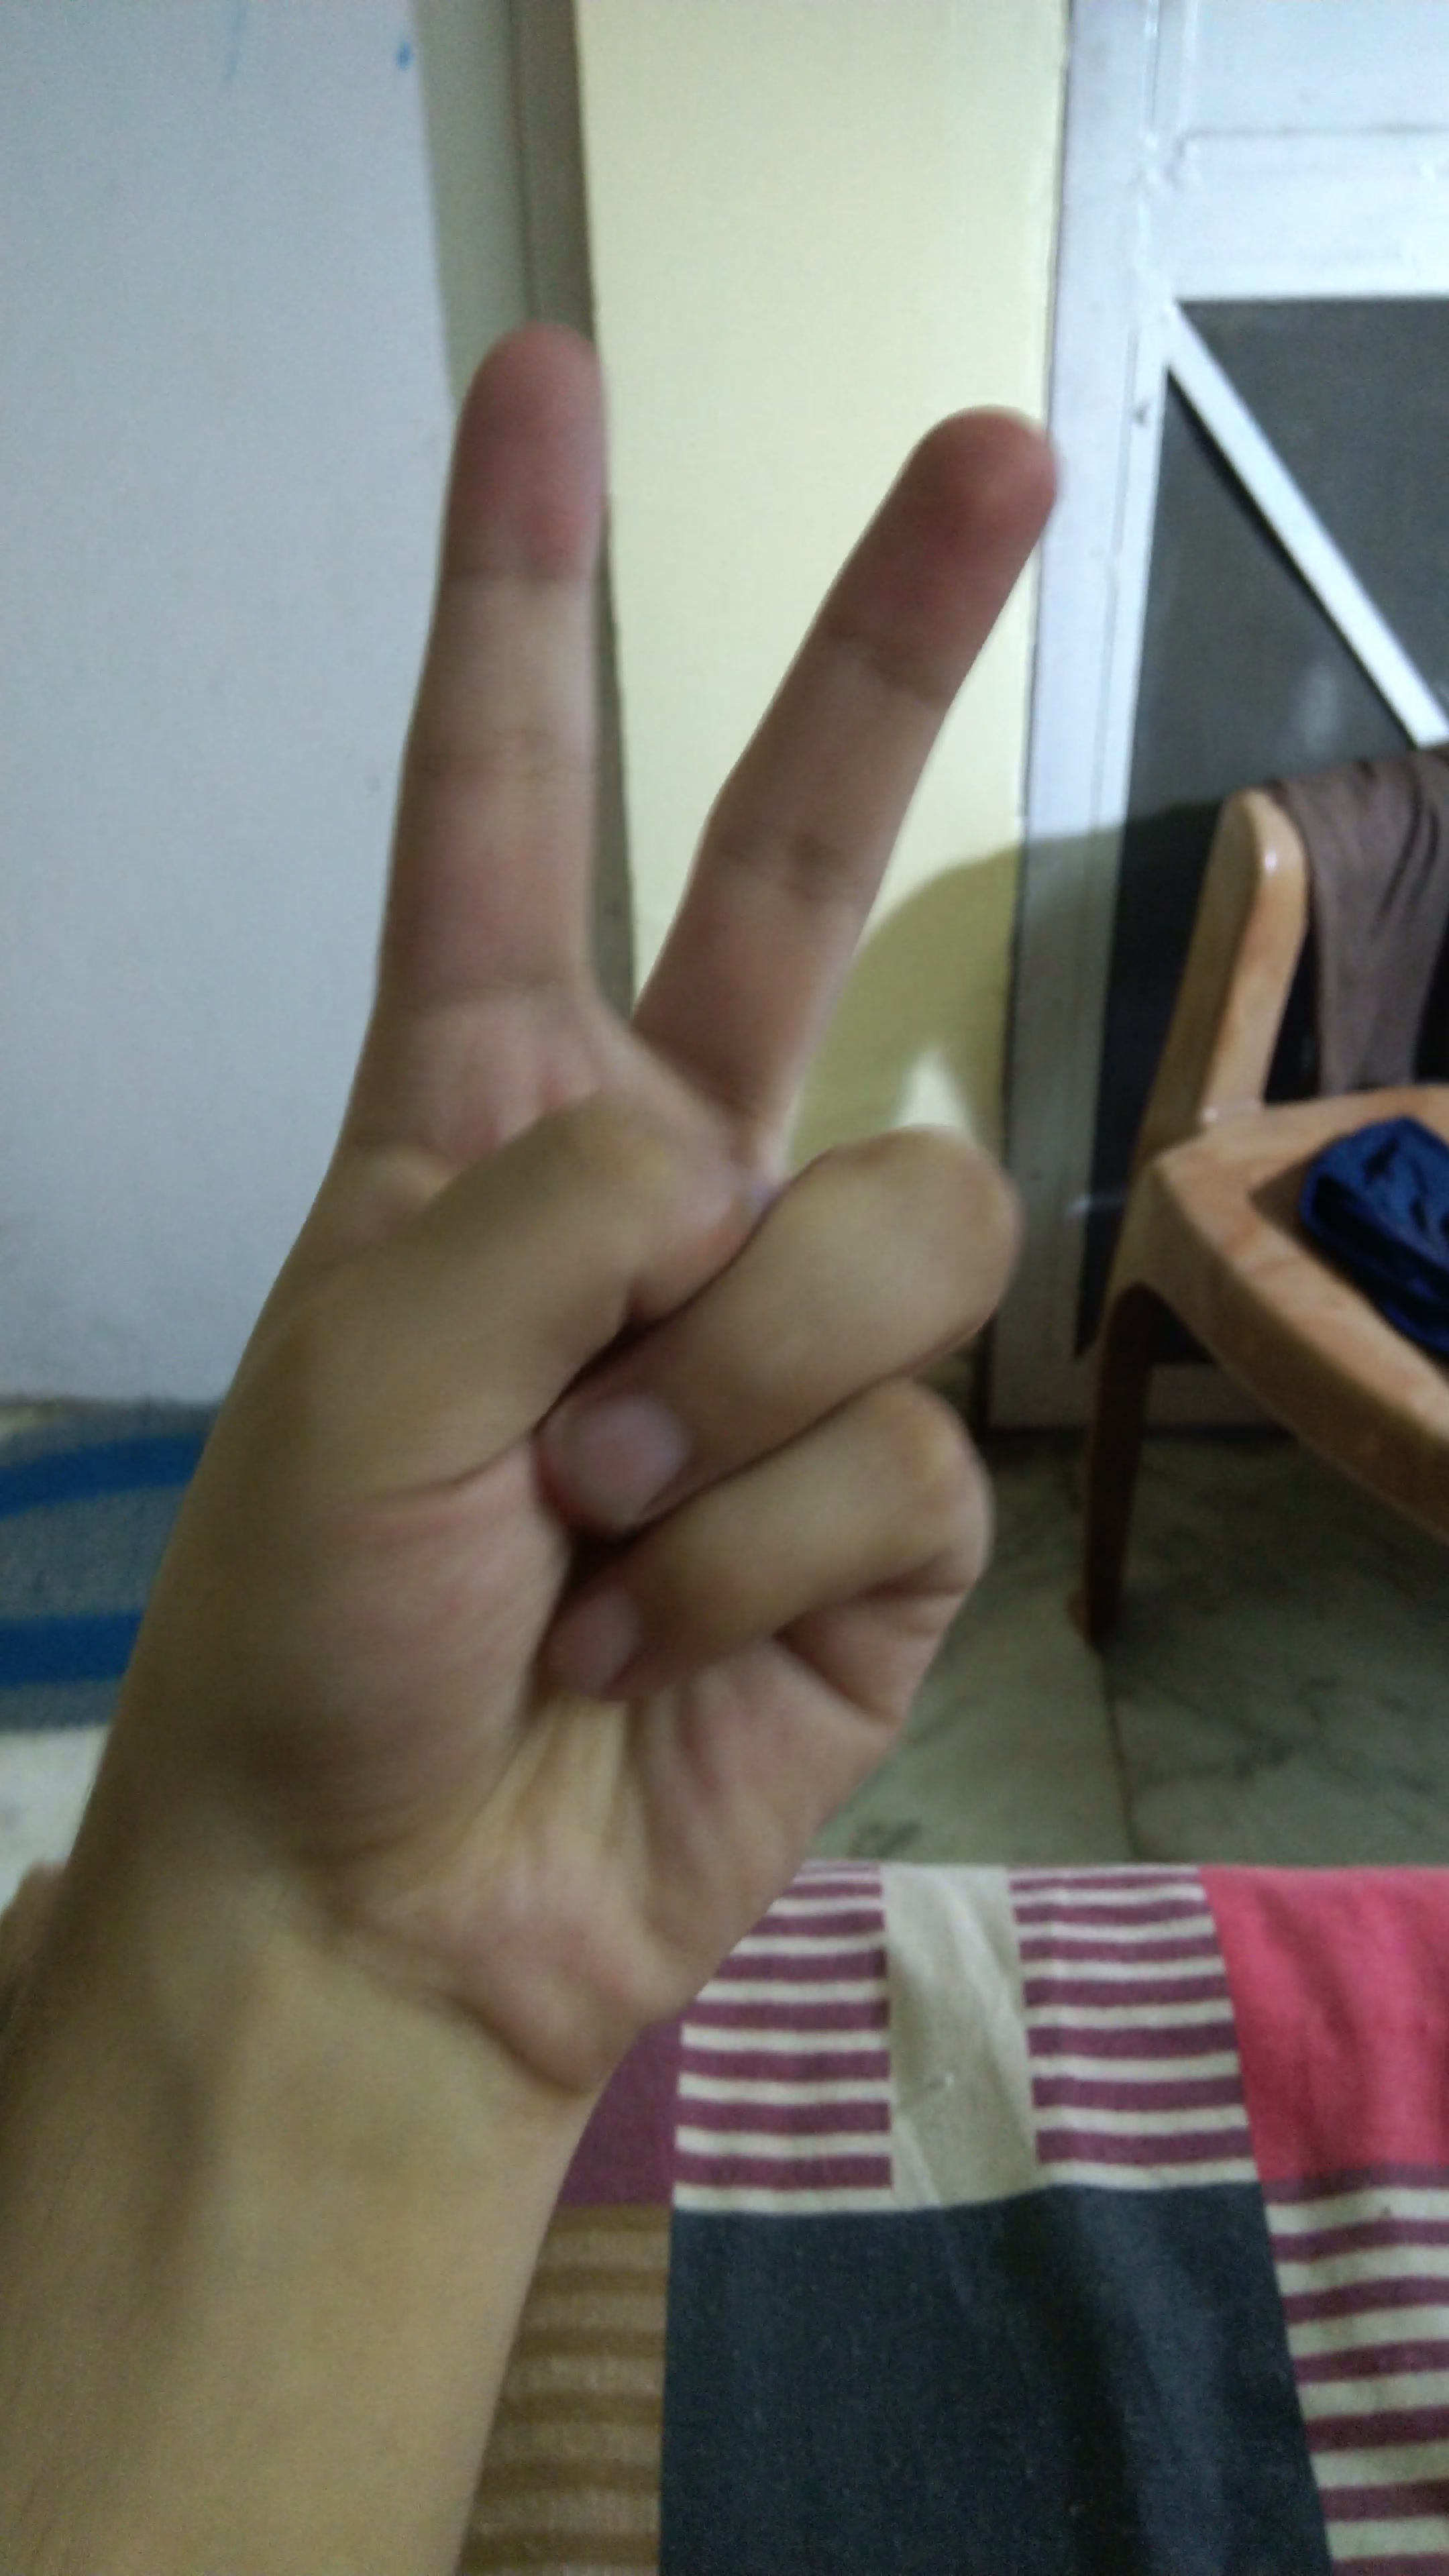hand: (69, 267, 1116, 2089)
